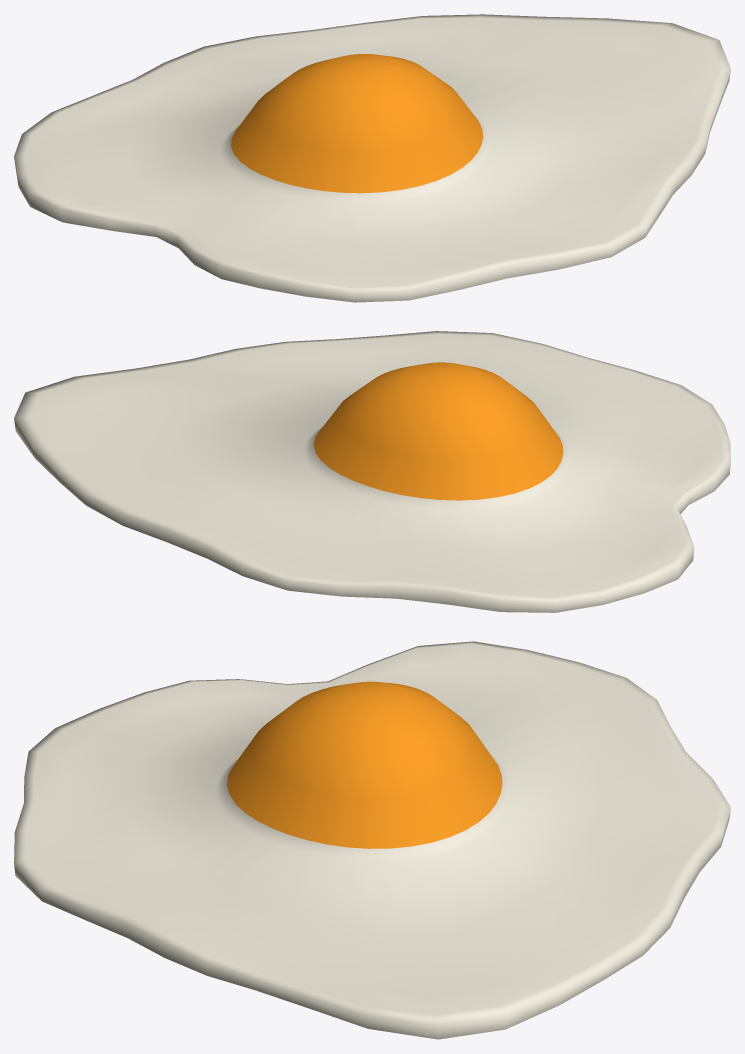
3 views of the same model, one above another, from view 1: azimuth 30°, elevation 25°; view 2: azimuth 150°, elevation 25°; view 3: azimuth 270°, elevation 25° (orthographic). The views are drawn at different scales.
Parts seen in each view (by area): view 1: NEW329_Whole_fried_egg_LOD2; view 2: NEW329_Whole_fried_egg_LOD2; view 3: NEW329_Whole_fried_egg_LOD2.
Boxes of the visible parts, left/top/right/bottom form: NEW329_Whole_fried_egg_LOD2: left=14, top=14, right=730, bottom=302; NEW329_Whole_fried_egg_LOD2: left=14, top=331, right=730, bottom=612; NEW329_Whole_fried_egg_LOD2: left=14, top=641, right=730, bottom=1039.
Size of the model in its own units: 0.1091 by 0.0165 by 0.0862.
